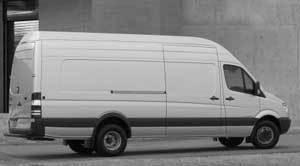car: (6, 29, 295, 160)
